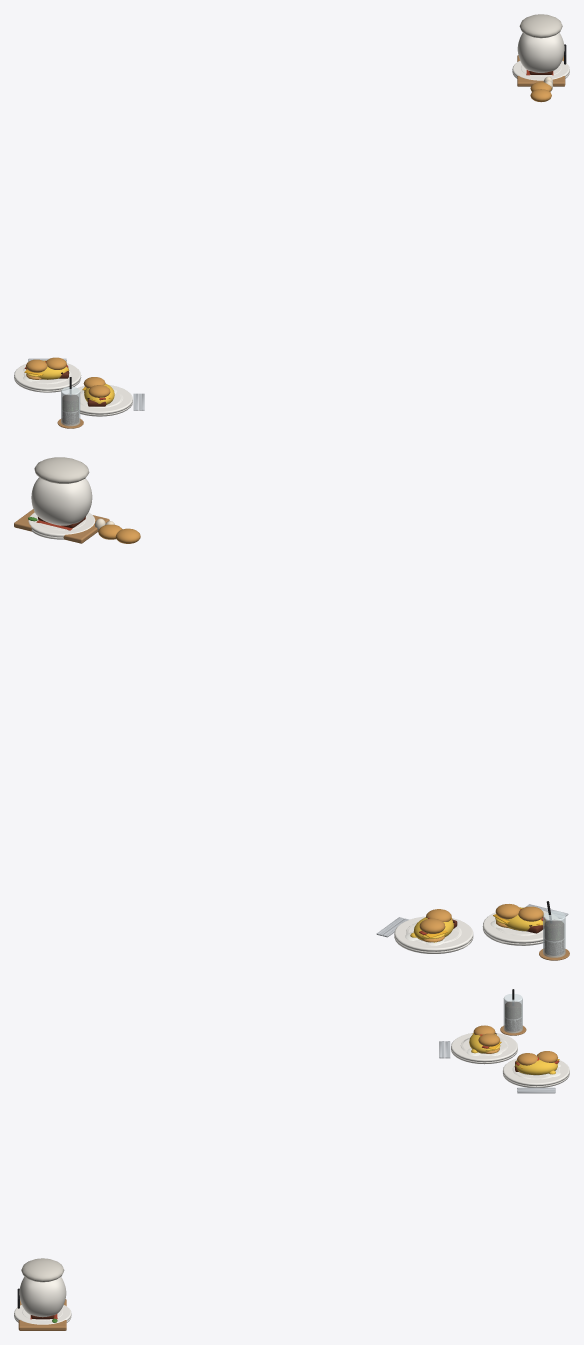
The model's file is props-DkO3pnmR.glb.
3 renders of one model, top to bottom at view 1: azimuth 90°, elevation 25°; view 2: azimuth 150°, elevation 25°; view 3: azimuth 270°, elevation 25°, orthographic. The views are drawn at different scales.
Visible parts, largest first — view 1: Cook_omurice, Cook_bec, Food_bec_him, Food_steak_eggs_you, Drink_americano, Food_steak_eggs_him, Drink_coconut_americano, Food_omurice_you, Food_bec_you; view 2: Cook_omurice, Food_steak_eggs_him, Cook_bec, Drink_americano, Food_bec_him, Food_steak_eggs_you, Food_bec_you, Drink_coconut_americano, Food_omurice_him, Cook_steak_eggs, Food_omurice_you; view 3: Cook_omurice, Food_steak_eggs_you, Food_steak_eggs_him, Food_bec_you, Drink_americano, Food_omurice_him, Food_bec_him, Drink_coconut_americano, Food_omurice_you, Cook_bec, Cook_steak_eggs.
Part boxes in pixels (x1,y1,x2,y2): Cook_omurice: (517,14,566,90); Cook_bec: (512,60,569,102); Food_bec_him: (18,357,77,386); Food_steak_eggs_you: (69,385,144,416); Drink_americano: (57,377,83,428); Food_steak_eggs_him: (14,358,81,392); Drink_coconut_americano: (61,387,79,425); Food_omurice_you: (72,384,141,410); Food_bec_you: (73,377,128,410); Cook_omurice: (31,457,114,530); Food_steak_eggs_him: (376,916,473,953); Cook_bec: (28,512,140,543); Drink_americano: (539,901,569,960); Food_bec_him: (399,909,468,946); Food_steak_eggs_you: (482,904,568,945); Food_bec_you: (487,904,553,938); Drink_coconut_americano: (543,912,564,956); Food_omurice_him: (379,917,468,946); Cook_steak_eggs: (14,509,109,543); Food_omurice_you: (487,905,566,937); Cook_omurice: (17,1258,66,1317); Food_steak_eggs_you: (439,1032,517,1064); Food_steak_eggs_him: (502,1058,569,1093); Food_bec_you: (447,1025,514,1058); Drink_americano: (500,989,526,1035); Food_omurice_him: (509,1057,563,1091); Food_bec_him: (506,1051,565,1081); Drink_coconut_americano: (504,994,522,1032); Food_omurice_you: (442,1034,512,1058); Cook_bec: (14,1305,71,1324); Cook_steak_eggs: (18,1299,66,1330).
Size of the model in its own units: 3.34 by 0.392 by 2.32.
